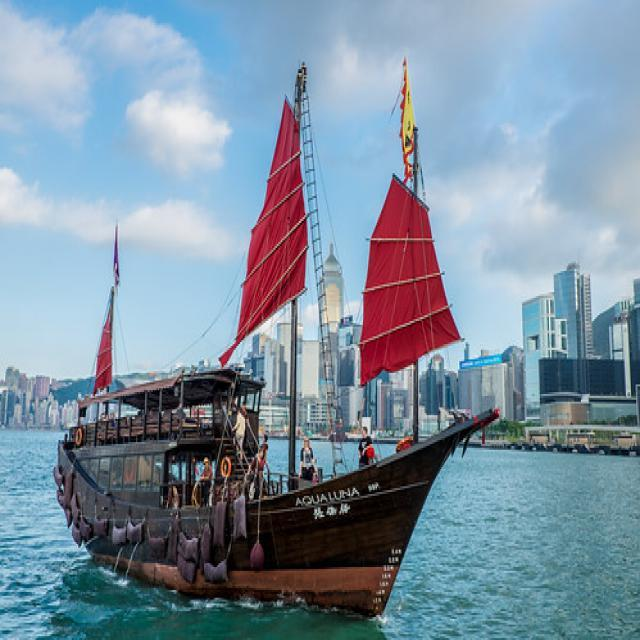ship: (42, 58, 504, 624)
